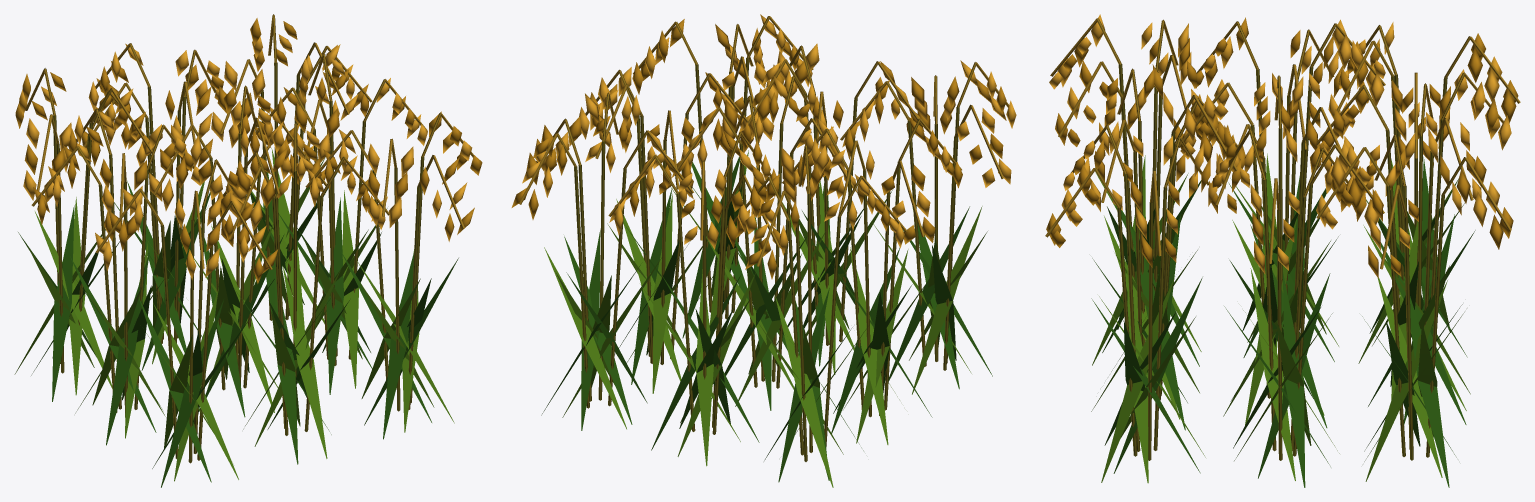
The model's file is crop-cell-rice-ready.obj.
3 views of the same model, side by side, from view 1: azimuth 30°, elevation 25°; view 2: azimuth 150°, elevation 25°; view 3: azimuth 270°, elevation 25° (orthographic). The views are drawn at different scales.
Visible parts, largest first — view 1: crop-cell-rice-ready; view 2: crop-cell-rice-ready; view 3: crop-cell-rice-ready.
Part boxes in pixels (bbox=[...]): crop-cell-rice-ready: bbox=[14, 14, 482, 487]; crop-cell-rice-ready: bbox=[511, 14, 1016, 487]; crop-cell-rice-ready: bbox=[1045, 14, 1520, 487].
Size of the model in its own units: 0.6703 by 0.5093 by 0.6741.
Materials: 1 (1 with a texture image).
